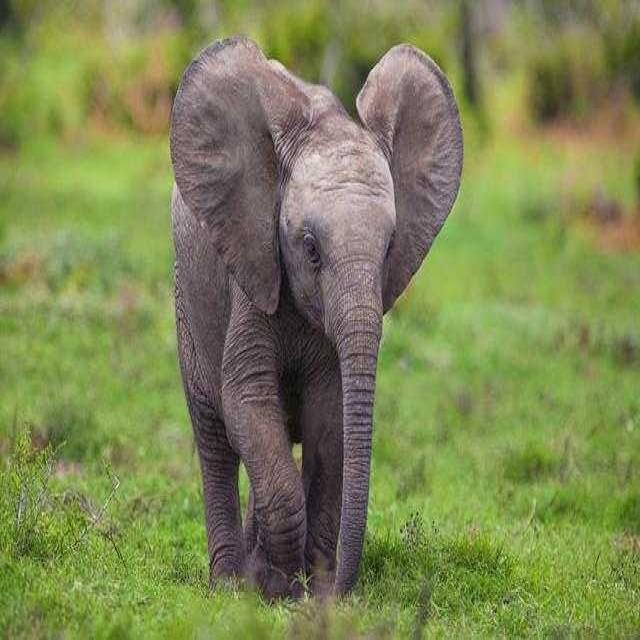Elephant: (168, 33, 464, 605)
